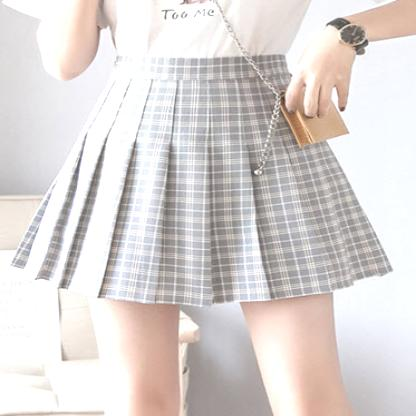jacket: (23, 40, 393, 320)
